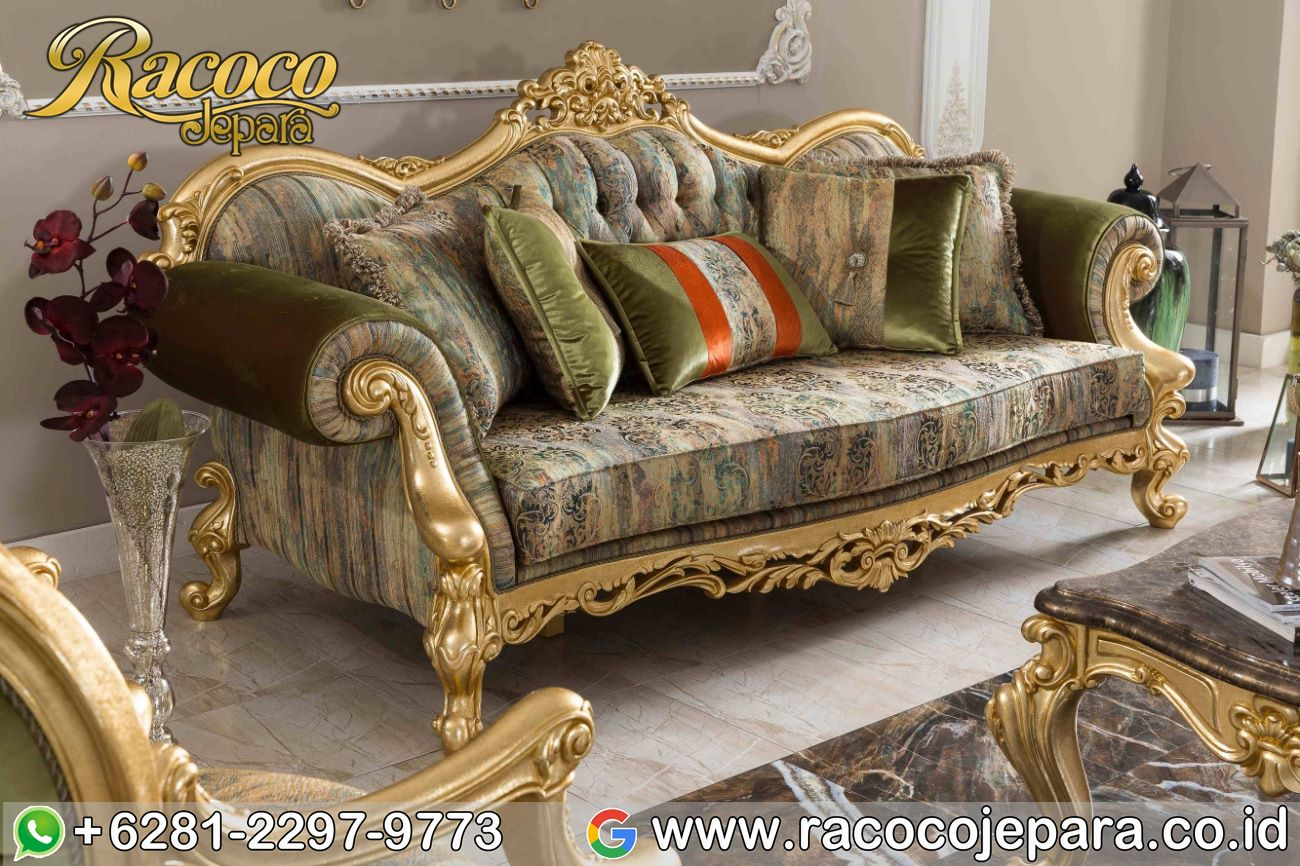Carving Chair: (61, 59, 1187, 618)
